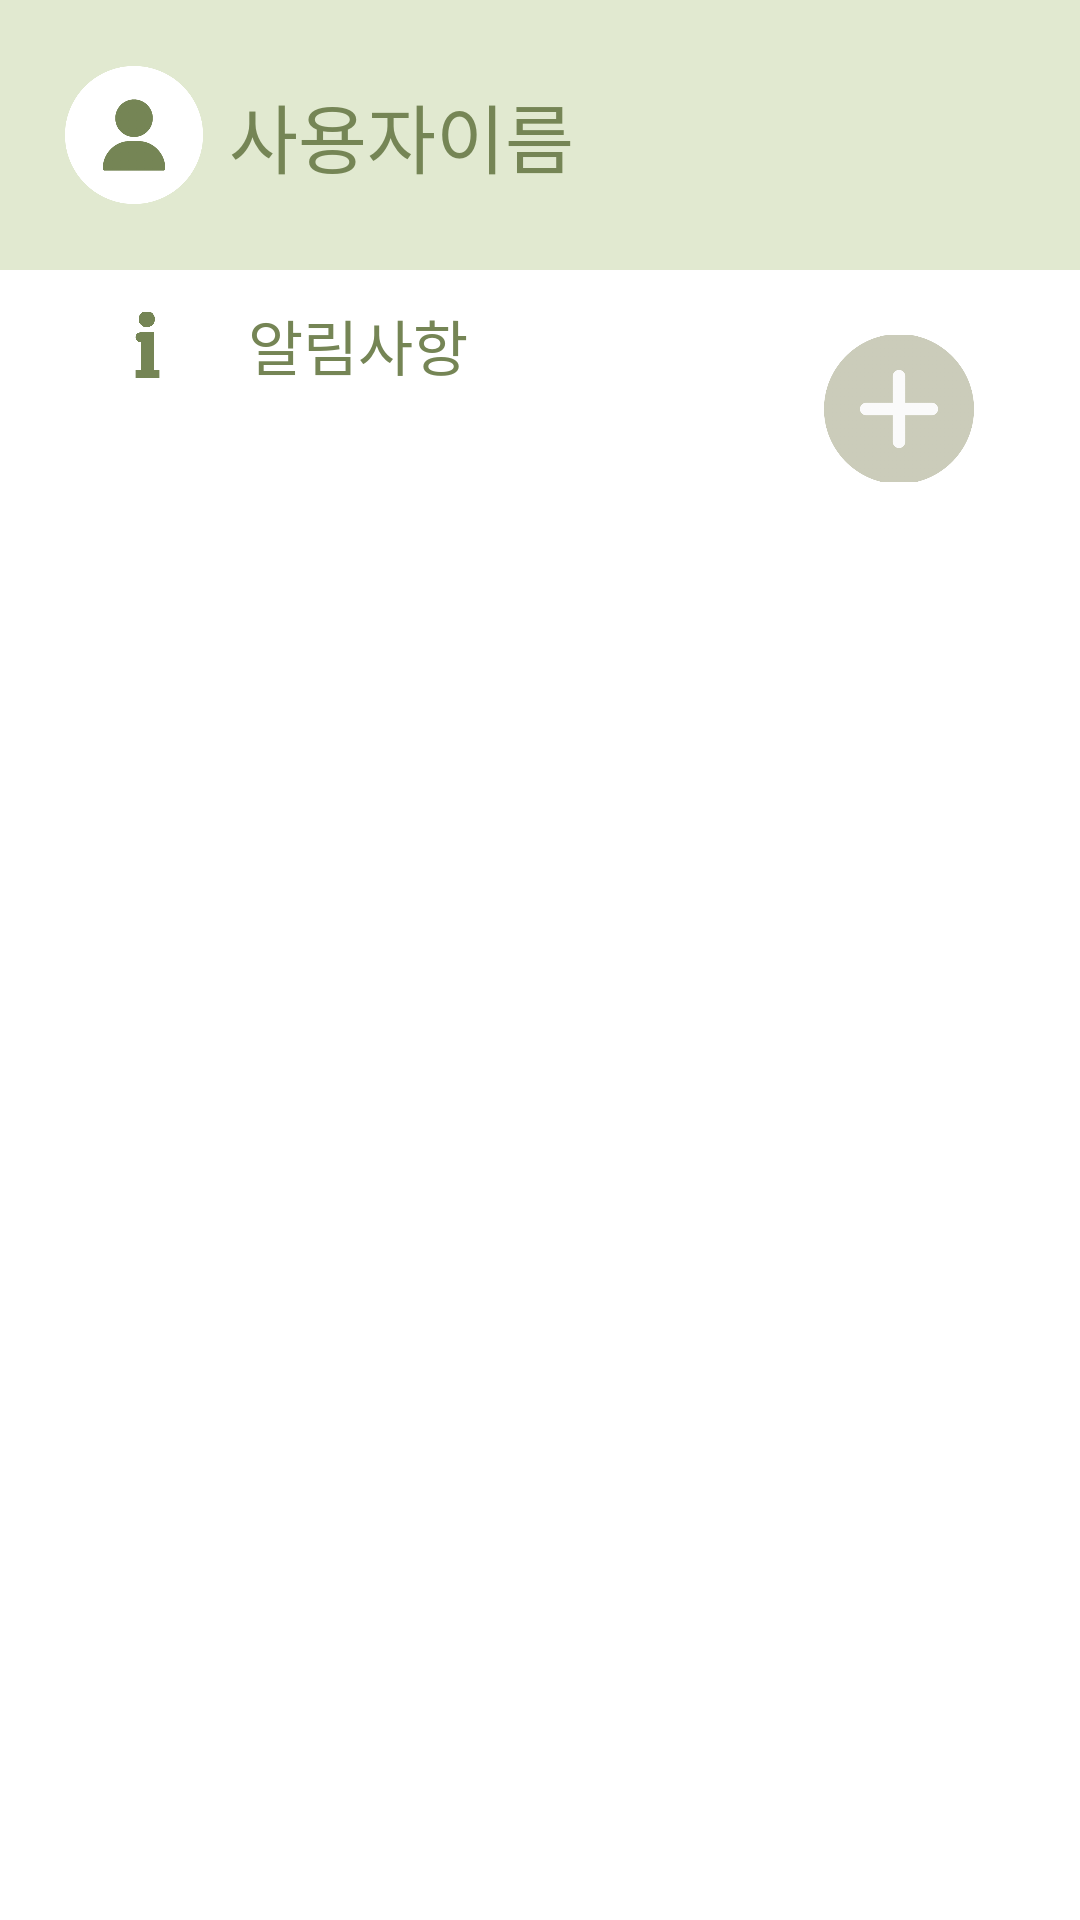

Where to tap for icons on this 1080px x 1920px app screen, as [x,y]:
info: [147,345]
plus: [899,408]
